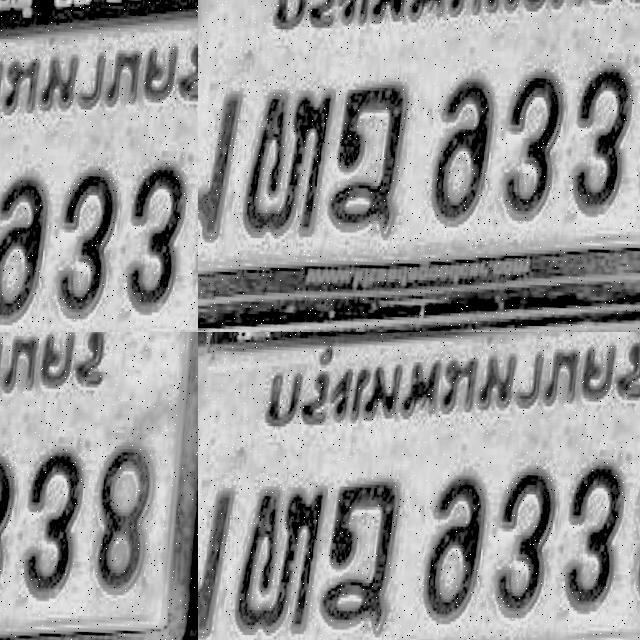license-plate: (198, 332, 640, 640), (0, 61, 198, 332), (198, 83, 406, 332)
